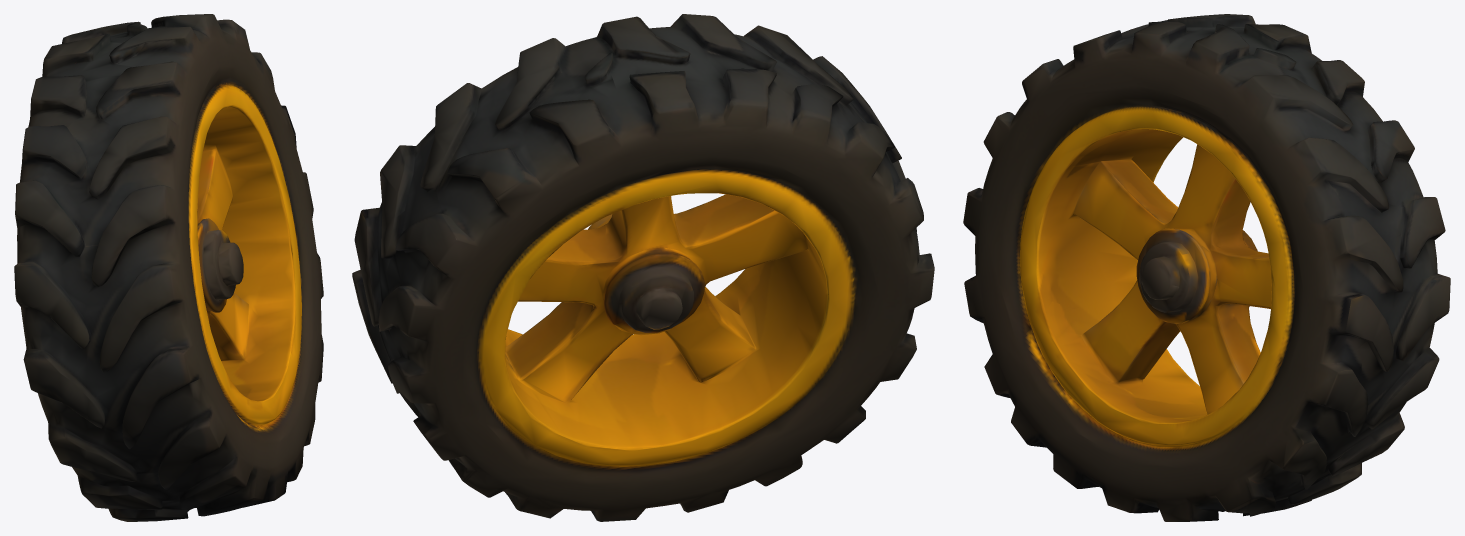
The model's file is wheel.fbx.
The picture shows the model from 3 angles, left to right: view 1: azimuth 30°, elevation 25°; view 2: azimuth 150°, elevation 25°; view 3: azimuth 270°, elevation 25°; orthographic projection. The views are drawn at different scales.
Visible parts, largest first — view 1: node_0.002; view 2: node_0.002; view 3: node_0.002.
Part boxes in pixels (bbox=[...]): node_0.002: bbox=[14, 14, 323, 521]; node_0.002: bbox=[352, 14, 934, 521]; node_0.002: bbox=[963, 14, 1450, 521].
Size of the model in its own units: 36.67 by 38.72 by 37.31.
1 material, 1 textured.
